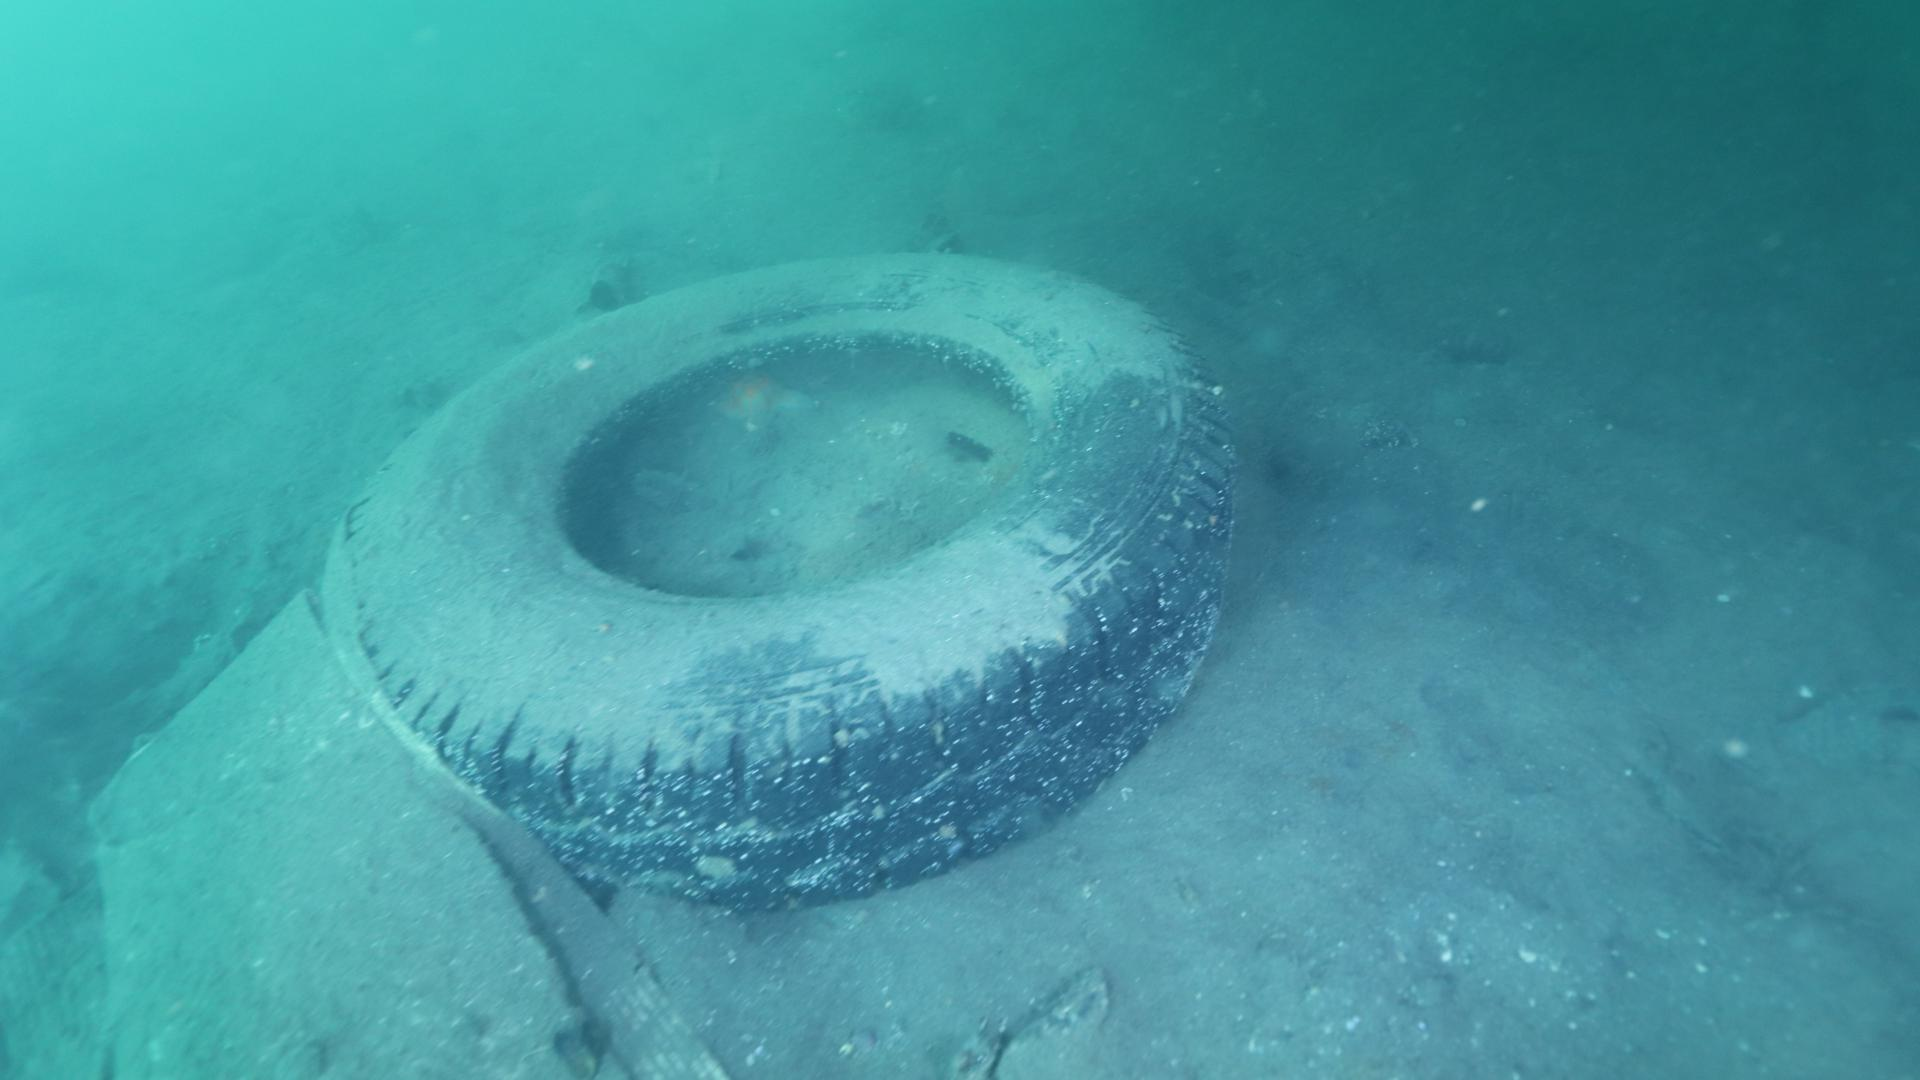tire: (316, 248, 1240, 914)
